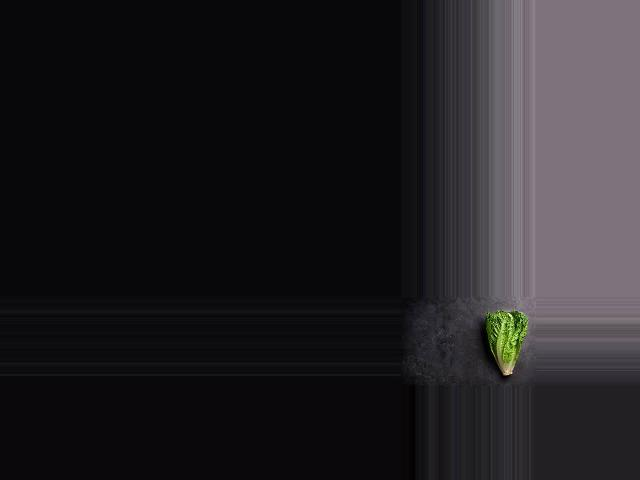lettuce: (483, 310, 529, 380)
